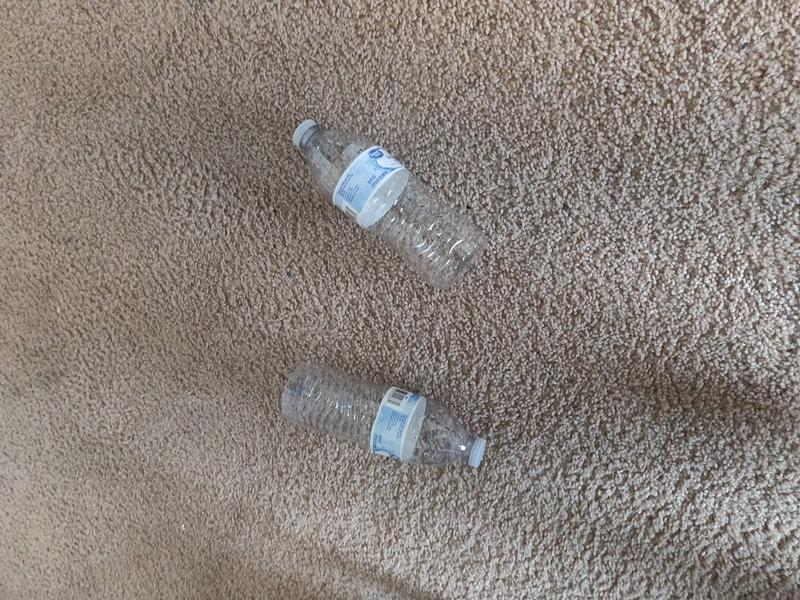bottle: (293, 120, 487, 288), (280, 361, 487, 466)
